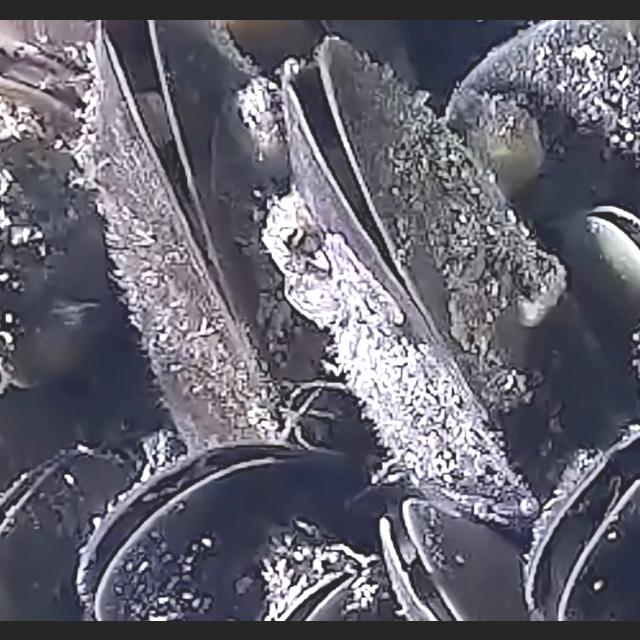Oyster-Closed: (447, 19, 640, 290), (0, 137, 100, 397)
Oyster-Open: (266, 35, 592, 525), (84, 19, 348, 455), (80, 438, 356, 620), (0, 444, 146, 620), (528, 428, 640, 620), (380, 496, 534, 620), (0, 36, 98, 158), (277, 562, 365, 620), (584, 200, 640, 286)
